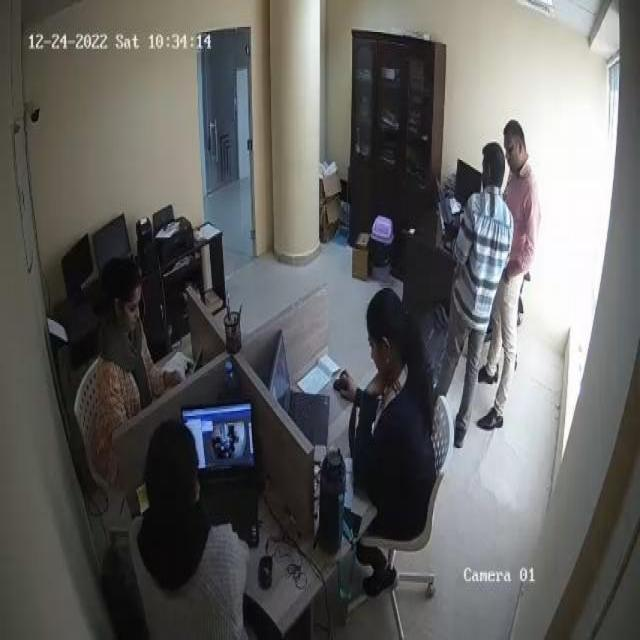bare_hand: (338, 354, 363, 414)
